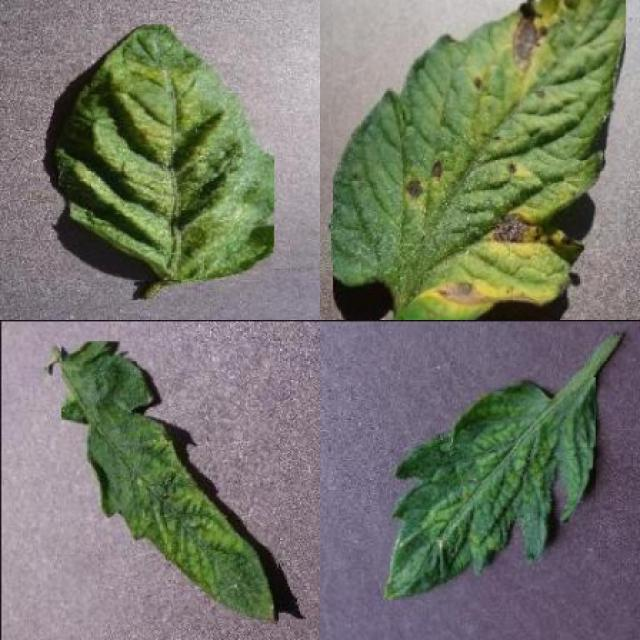Early Blight: (333, 0, 626, 320)
Mosaic Virus: (62, 340, 279, 624), (378, 377, 596, 600)
Spider Mites: (55, 25, 275, 282)
